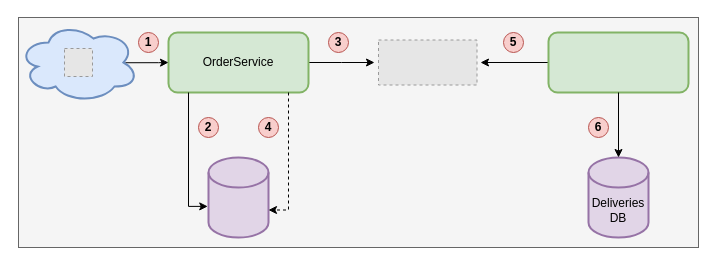
Image size: 716x265. Some labels were removed from this diagram. Grey dashed boxes stand in for pictures. Here are the shapes that lost their labels. From the top down, the centre of each, then its label:
pixel 618 62: DeliveryService
pixel 238 197: Orders DB
